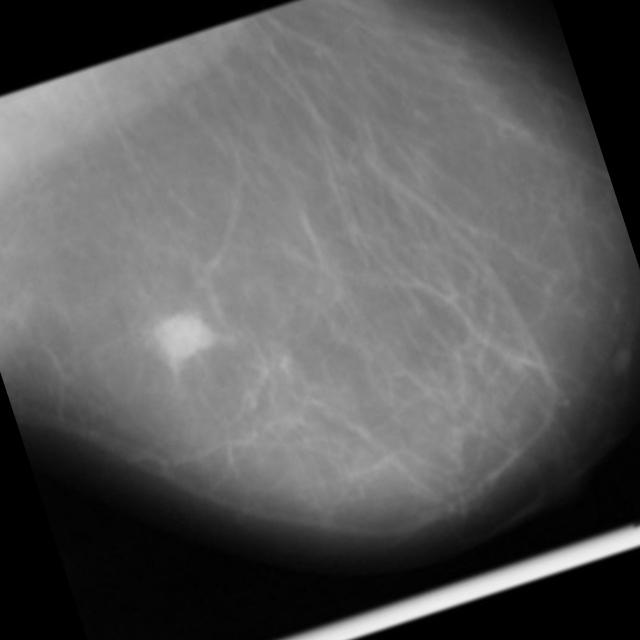MISC: (144, 298, 222, 375)
